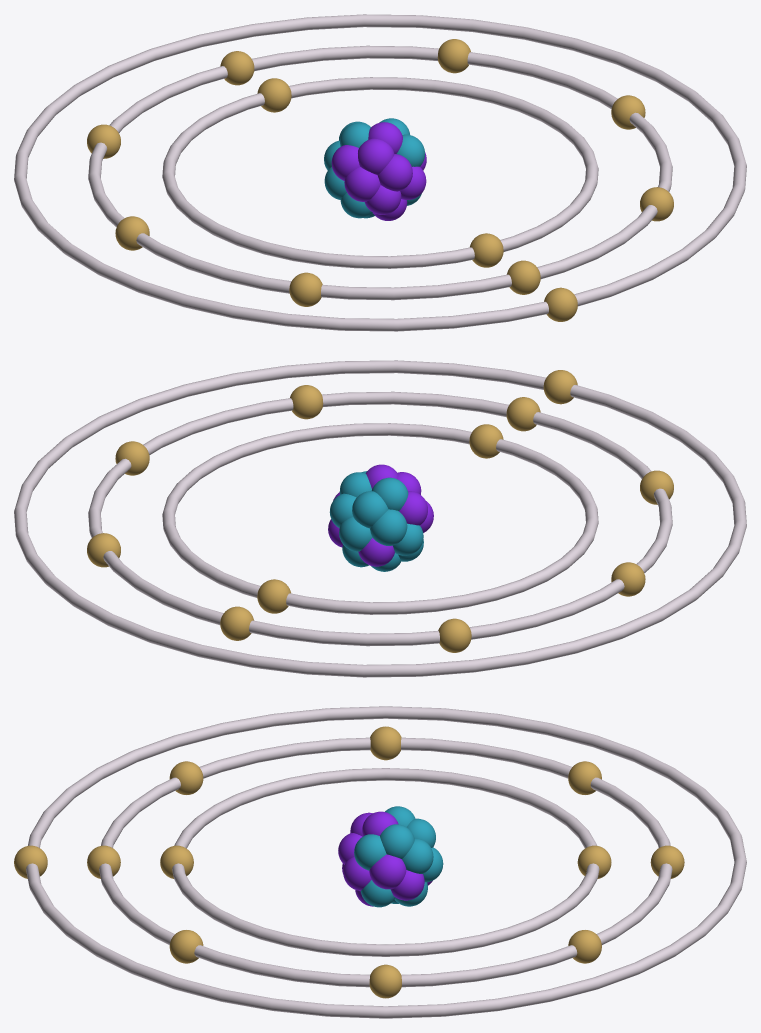
Rendered from sodio.glb.
3 views of the same model, one above another, from view 1: azimuth 30°, elevation 25°; view 2: azimuth 150°, elevation 25°; view 3: azimuth 270°, elevation 25° (orthographic).
Visible parts, largest first — view 1: Orbita_3, Orbita_2, Orbita_1, Nucleo_Completo, Eletron_C2_8, Eletron_C2_4, Eletron_1, Eletron_C2_1, Eletron_C3_1, Eletron_C2_5, Eletron_2, Eletron_C2_7 (+3 smaller); view 2: Orbita_3, Orbita_2, Orbita_1, Nucleo_Completo, Eletron_C2_6, Eletron_C2_2, Eletron_2, Eletron_C2_5, Eletron_C2_1, Eletron_1, Eletron_C3_1, Eletron_C2_7 (+3 smaller); view 3: Orbita_3, Orbita_2, Orbita_1, Nucleo_Completo, Eletron_C2_3, Eletron_C2_7, Eletron_C2_4, Eletron_C2_2, Eletron_C2_8, Eletron_C2_6, Eletron_2, Eletron_C2_1 (+3 smaller).
Part boxes in pixels (x1,y1,x2,y2): Orbita_3: [14, 14, 746, 331]; Orbita_2: [88, 45, 672, 300]; Orbita_1: [162, 77, 598, 268]; Nucleo_Completo: [324, 118, 426, 220]; Eletron_C2_8: [289, 272, 322, 306]; Eletron_C2_4: [437, 39, 470, 73]; Eletron_1: [470, 233, 503, 267]; Eletron_C2_1: [507, 260, 540, 294]; Eletron_C3_1: [544, 287, 577, 321]; Eletron_C2_5: [220, 51, 254, 85]; Eletron_2: [257, 78, 291, 112]; Eletron_C2_7: [115, 216, 149, 250]; Orbita_3: [14, 360, 746, 677]; Orbita_2: [88, 391, 672, 646]; Orbita_1: [162, 423, 598, 614]; Nucleo_Completo: [328, 464, 433, 571]; Eletron_C2_6: [438, 618, 471, 652]; Eletron_C2_2: [290, 385, 323, 419]; Eletron_2: [257, 579, 290, 613]; Eletron_C2_5: [220, 606, 253, 640]; Eletron_C2_1: [506, 397, 540, 431]; Eletron_1: [469, 424, 503, 458]; Eletron_C3_1: [543, 370, 577, 404]; Eletron_C2_7: [611, 562, 645, 596]; Orbita_3: [26, 706, 746, 1018]; Orbita_2: [99, 737, 672, 987]; Orbita_1: [172, 768, 599, 956]; Nucleo_Completo: [338, 806, 443, 907]; Eletron_C2_3: [369, 964, 401, 998]; Eletron_C2_7: [370, 726, 401, 760]; Eletron_C2_4: [568, 930, 601, 963]; Eletron_C2_2: [169, 930, 203, 963]; Eletron_C2_8: [169, 761, 203, 794]; Eletron_C2_6: [568, 761, 601, 794]; Eletron_2: [577, 845, 611, 878]; Eletron_C2_1: [87, 845, 120, 878].
Size of the model in its own units: 3.46 by 0.4976 by 3.51.
